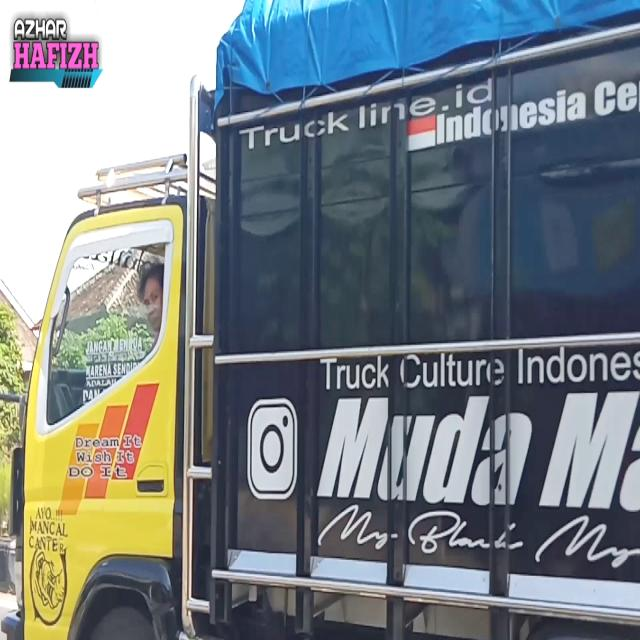truck: (18, 71, 640, 640)
